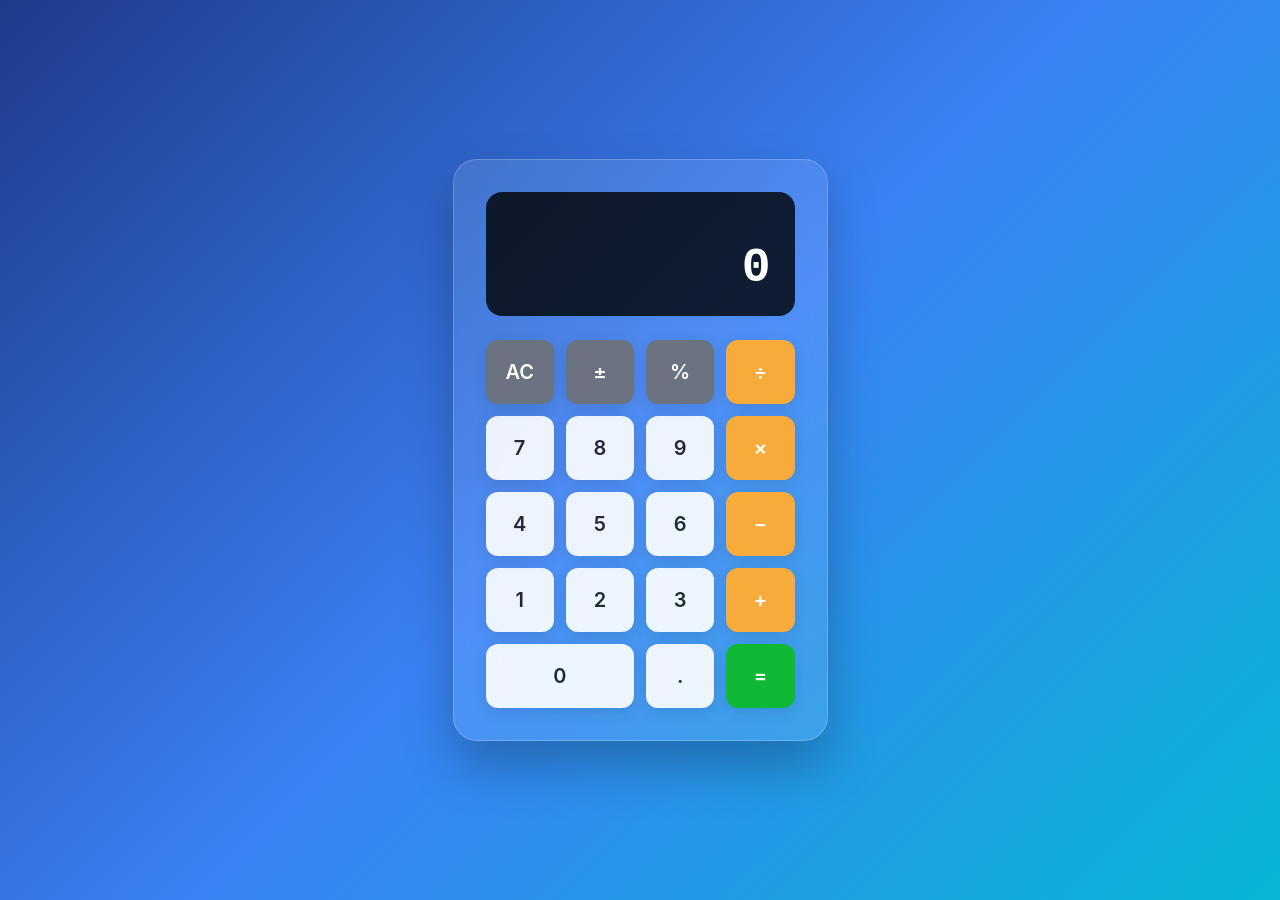
Test case: Calculator UI Tests - User Interface Validation › should display numbers when clicking visible number buttons
expect the button "2" is shown: met, box [566,568,634,632]
expect the button "3" is shown: met, box [646,568,714,632]
// Hacer clic en los botones
Click the button "1".
click(520, 600)  # box [486,568,554,632]
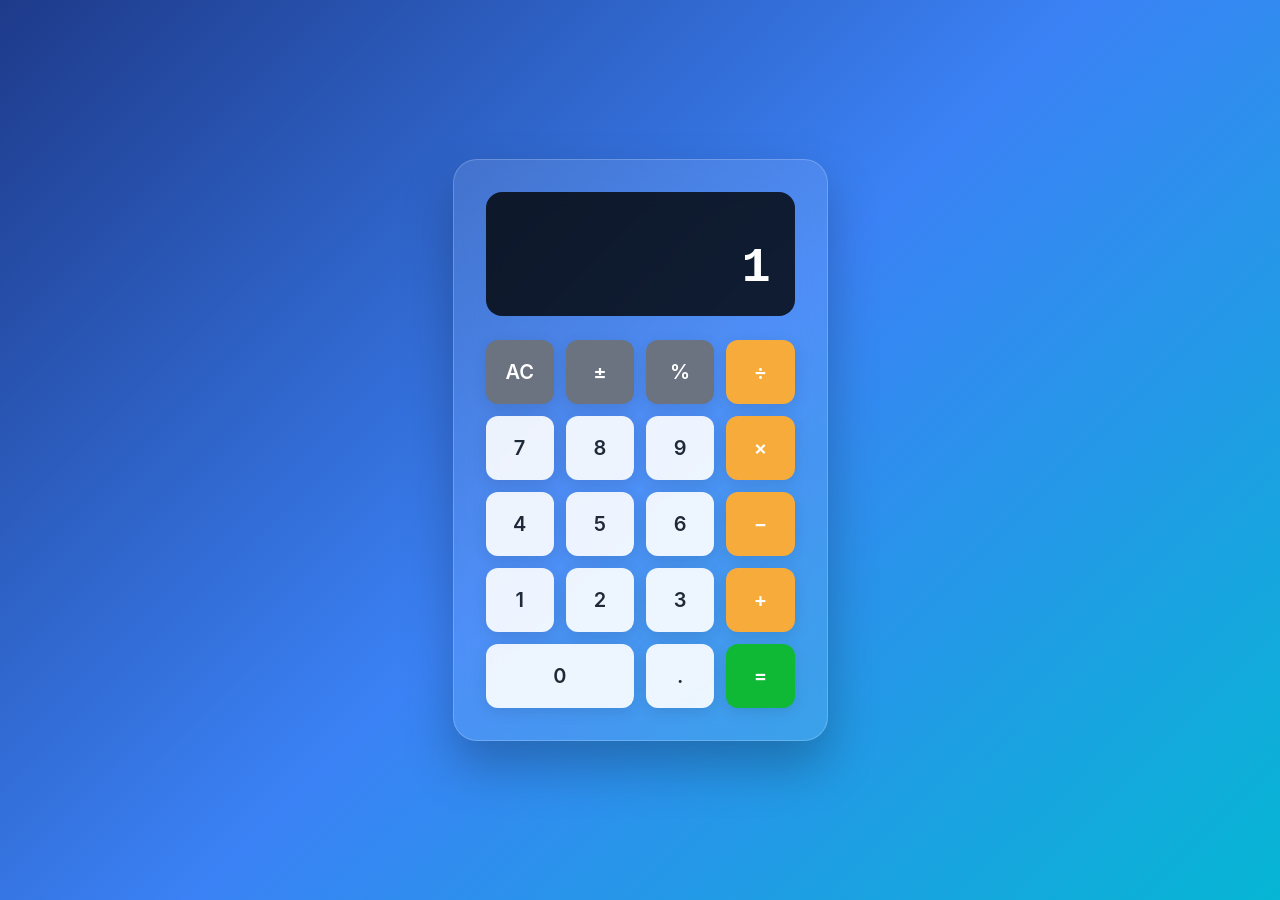
Click the button "2".
click(600, 600)  # box [566,568,634,632]
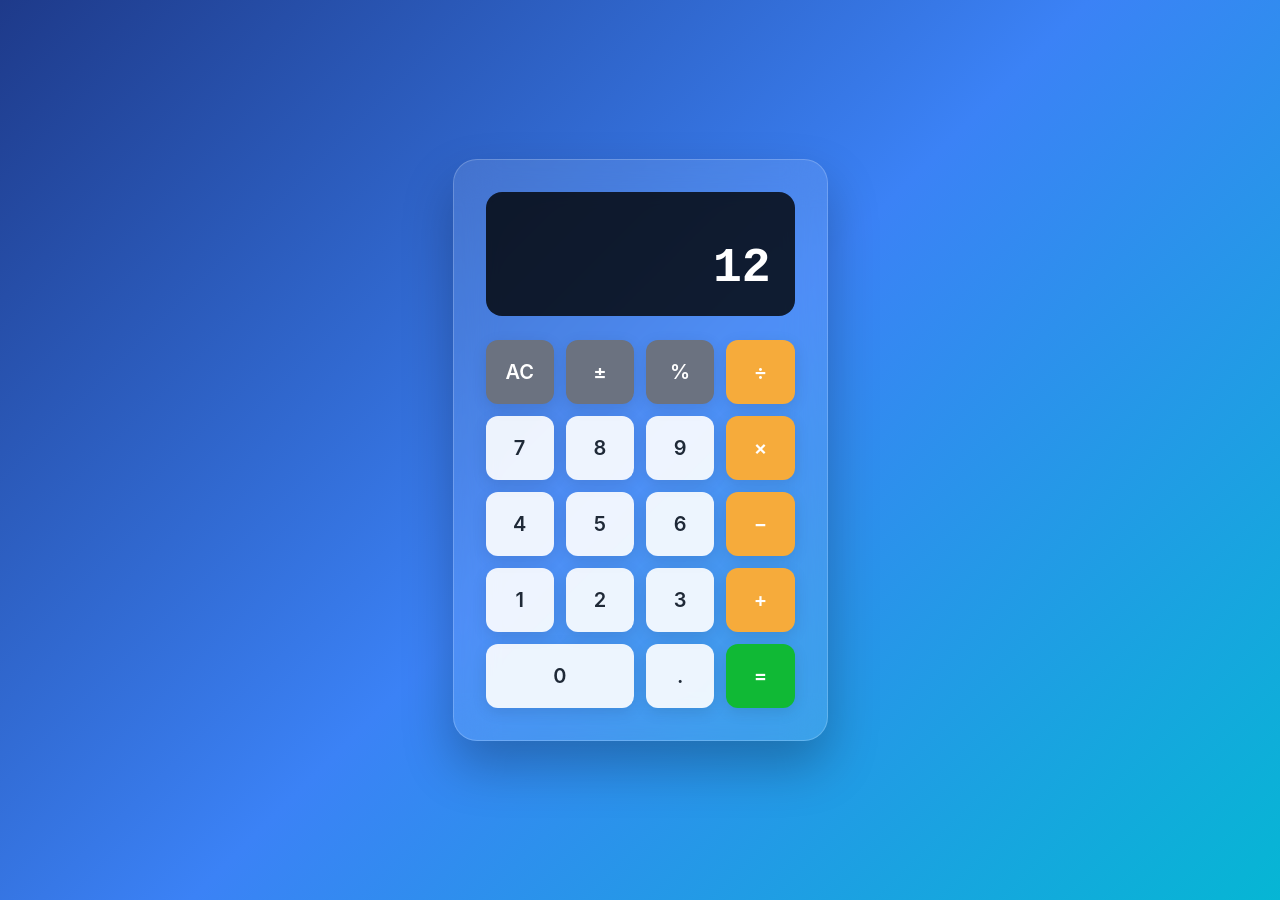
Click the button "3".
click(680, 600)  # box [646,568,714,632]
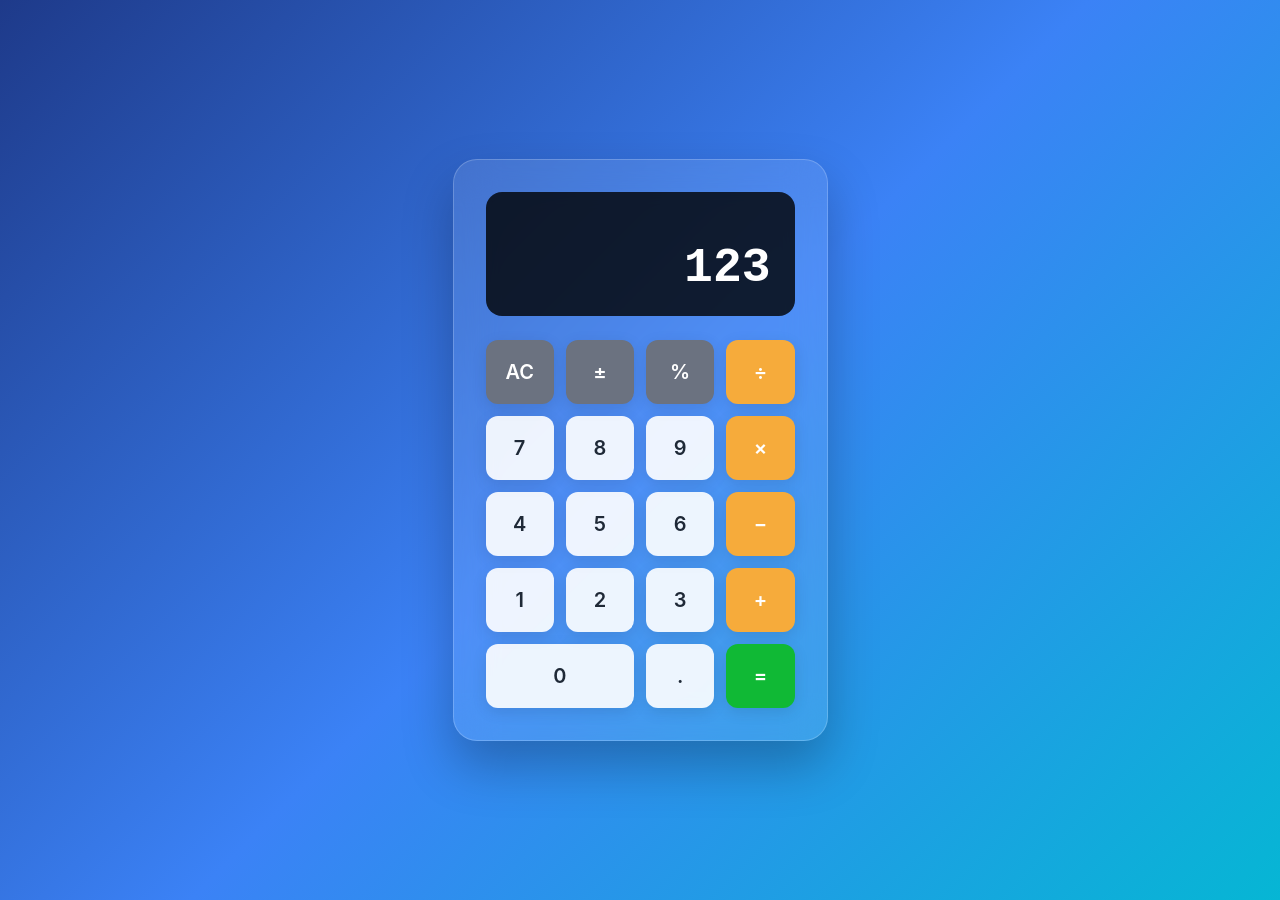
expect the text with test id "calculator-display" reads "123": met, box [684,241,770,295]
